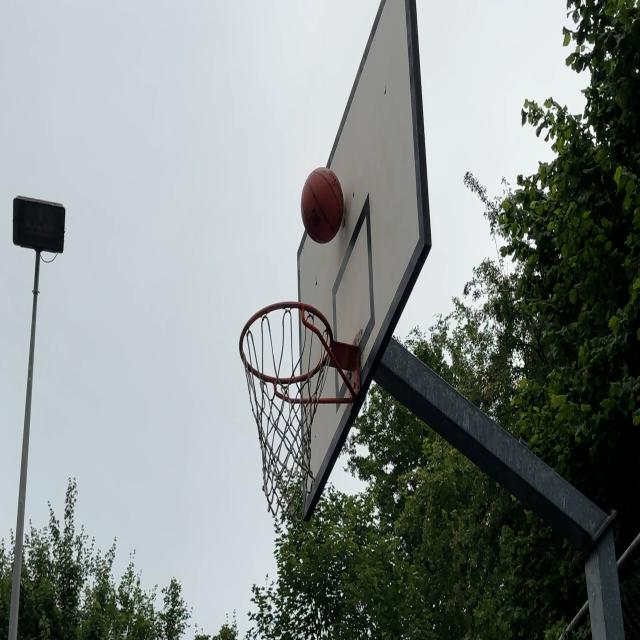rebound_hit: (302, 167, 348, 245)
